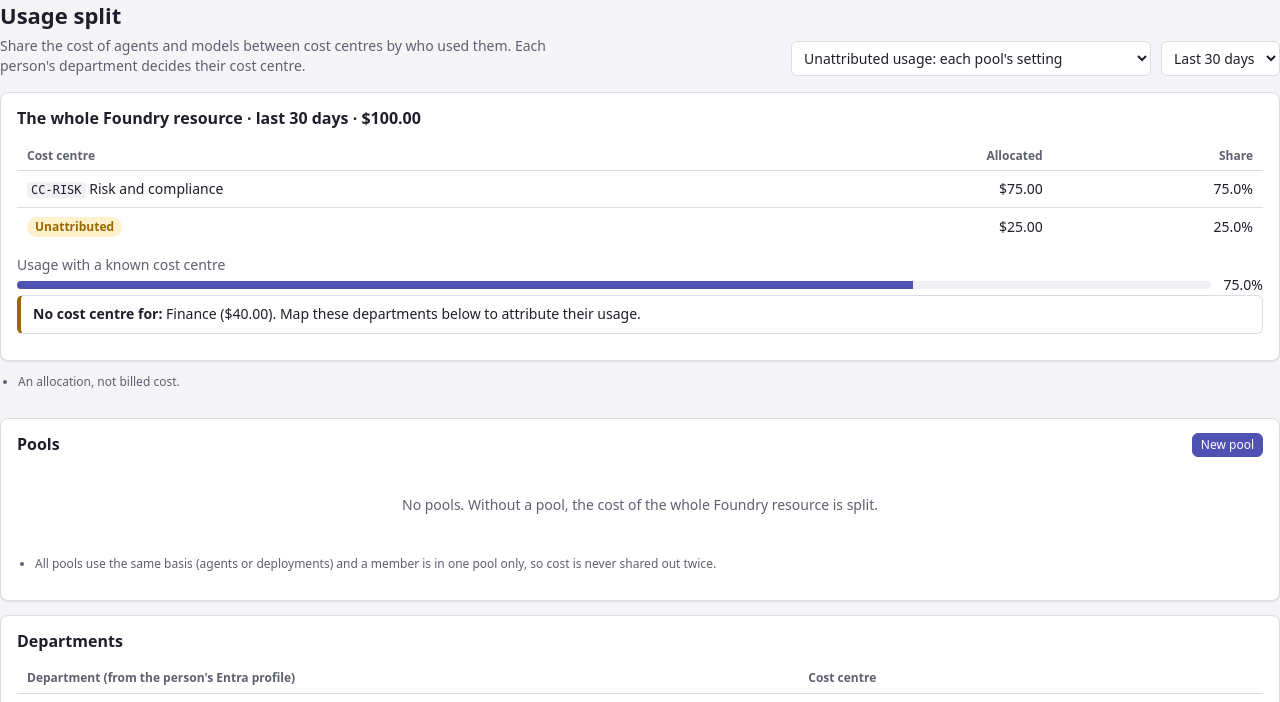
Scenario: UsageSplitPage › checks a pool before saving it and saves its members as a list
Later steps or results of the test are not shown.
Expected: the text "$75.00" is shown, [783, 171, 1053, 208]
Click the button "New pool" at (1227, 445), box [1192, 433, 1263, 456]
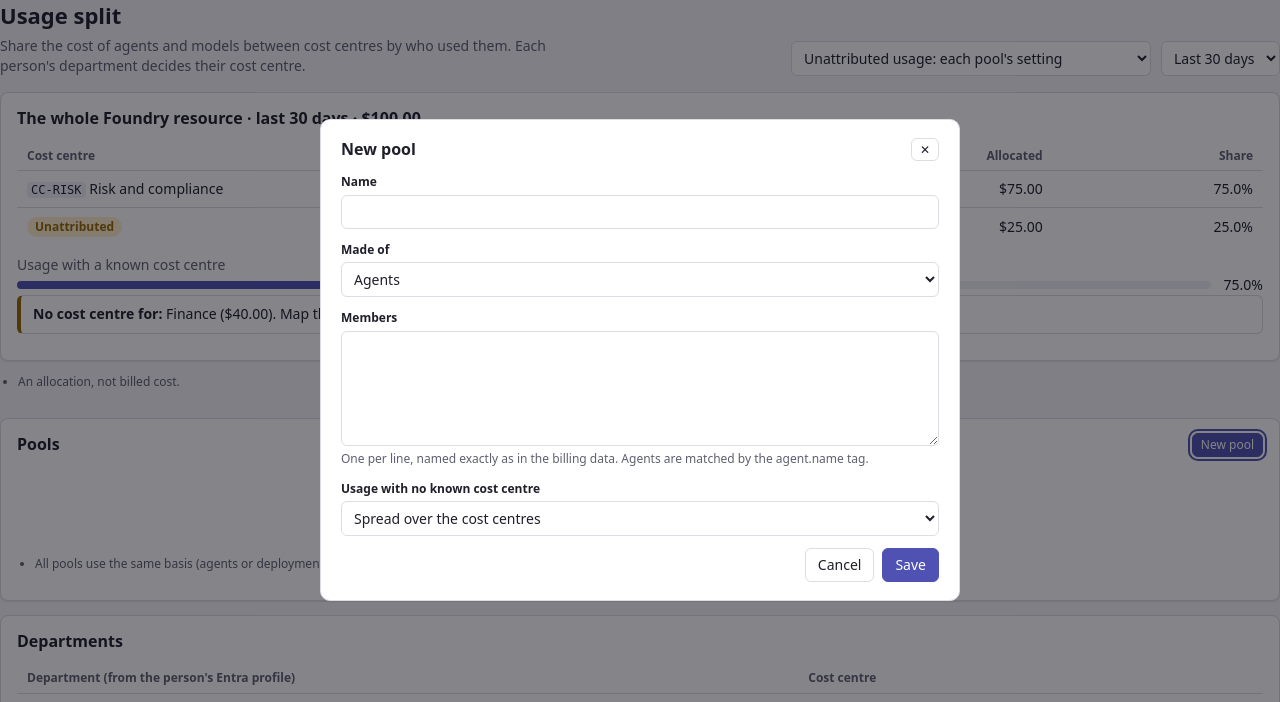
Click the button "Save" at (911, 565), box [882, 548, 939, 582]
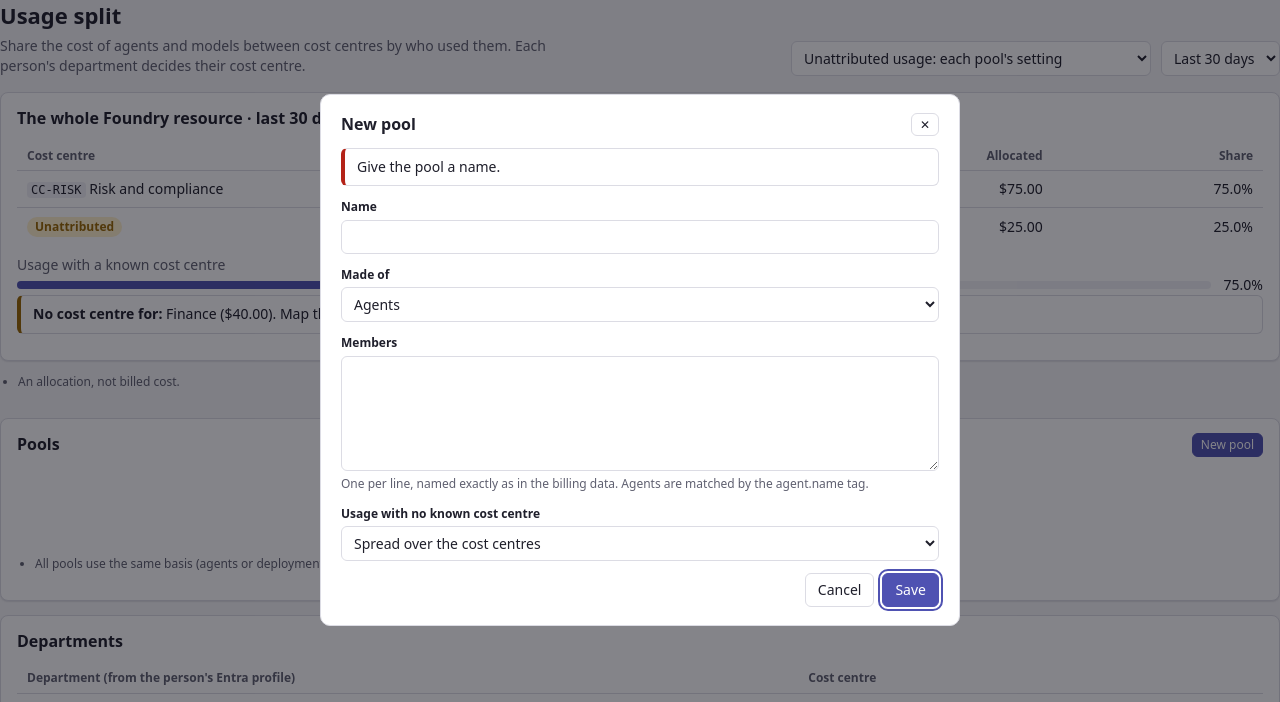
Now the message shows "Give the pool a name", box [357, 157, 500, 176]
Type "Support" into the field labelled "Name" at (640, 237), box [341, 220, 939, 254]
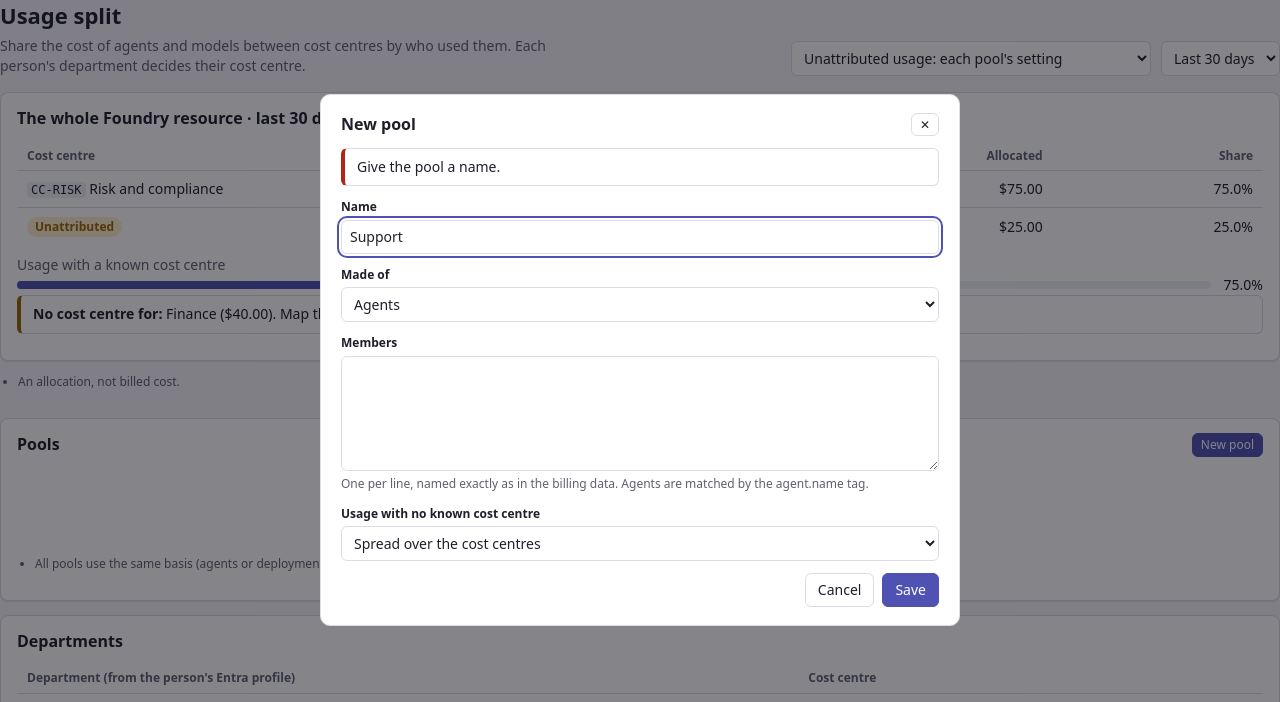
Click the button "Save" at (911, 590), box [882, 573, 939, 607]
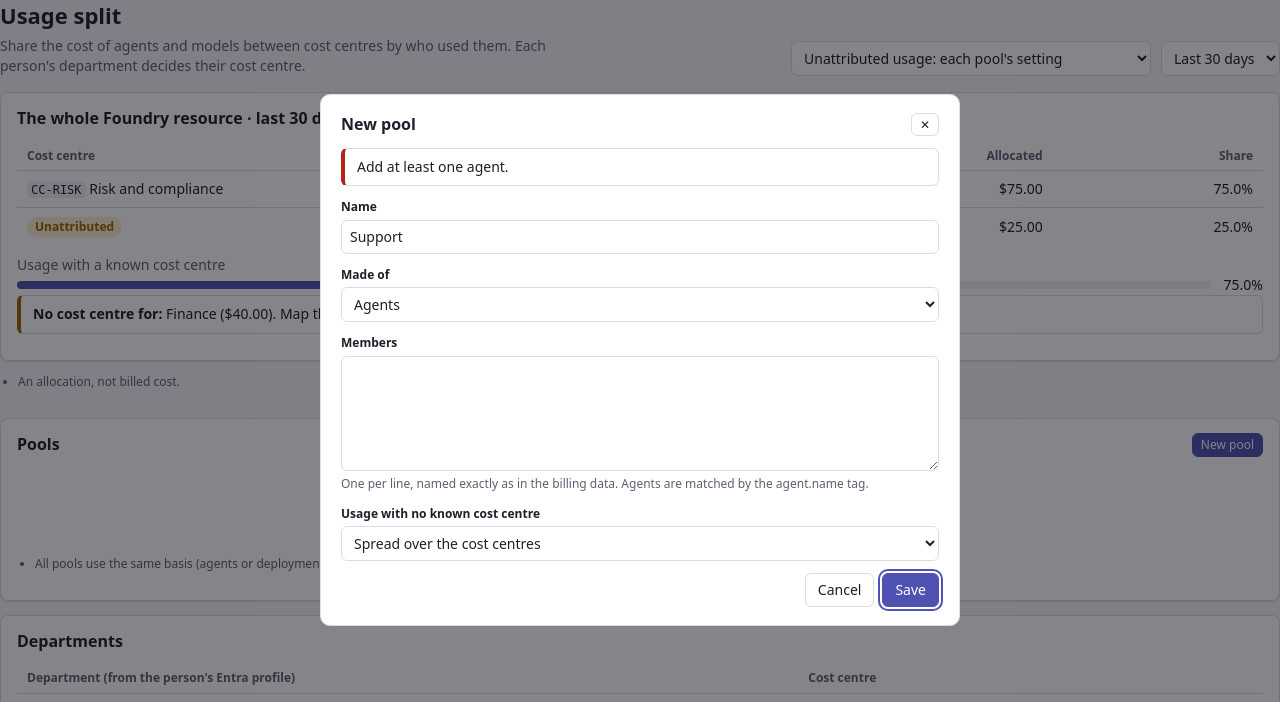
Now the message shows "at least one agent", box [357, 157, 509, 176]
